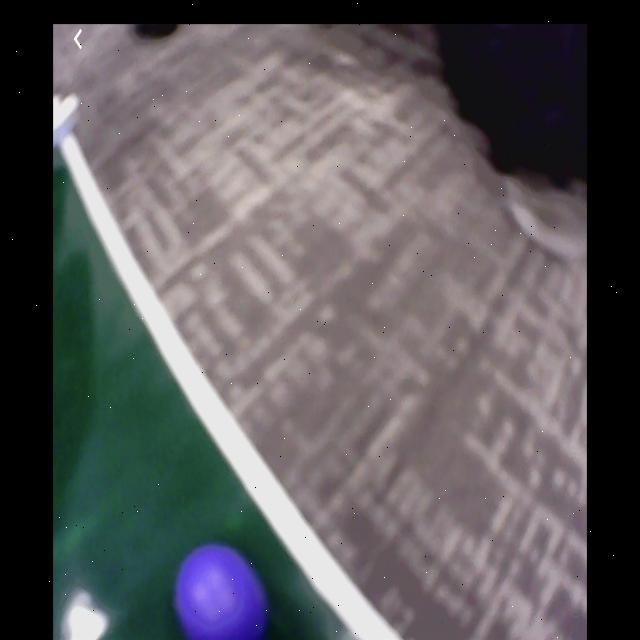ball: (178, 547, 262, 640)
